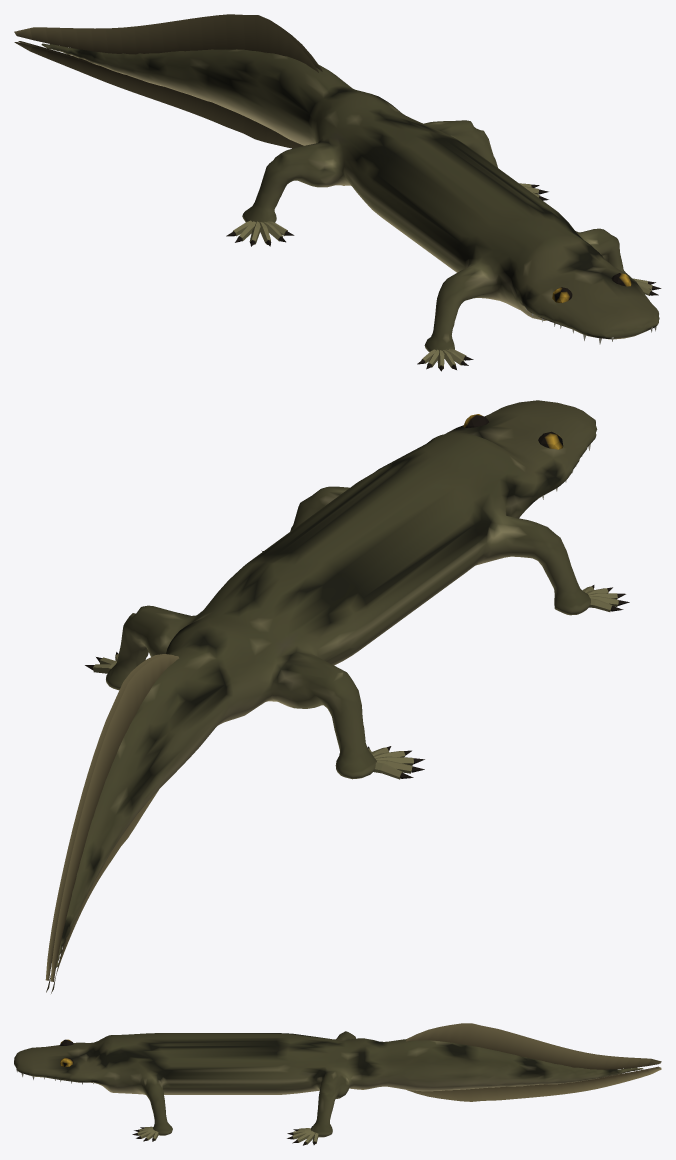
The model's file is Tulerpeton.fbx.
3 views of the same model, one above another, from view 1: azimuth 30°, elevation 25°; view 2: azimuth 150°, elevation 25°; view 3: azimuth 270°, elevation 25° (orthographic). The views are drawn at different scales.
Parts seen in each view (by area): view 1: Tulerpeton; view 2: Tulerpeton; view 3: Tulerpeton.
Boxes of the visible parts, bbox=[...] form: Tulerpeton: bbox=[14, 14, 661, 371]; Tulerpeton: bbox=[45, 400, 629, 993]; Tulerpeton: bbox=[14, 1023, 661, 1145].
Size of the model in its own units: 0.376 by 0.1599 by 1.16.
